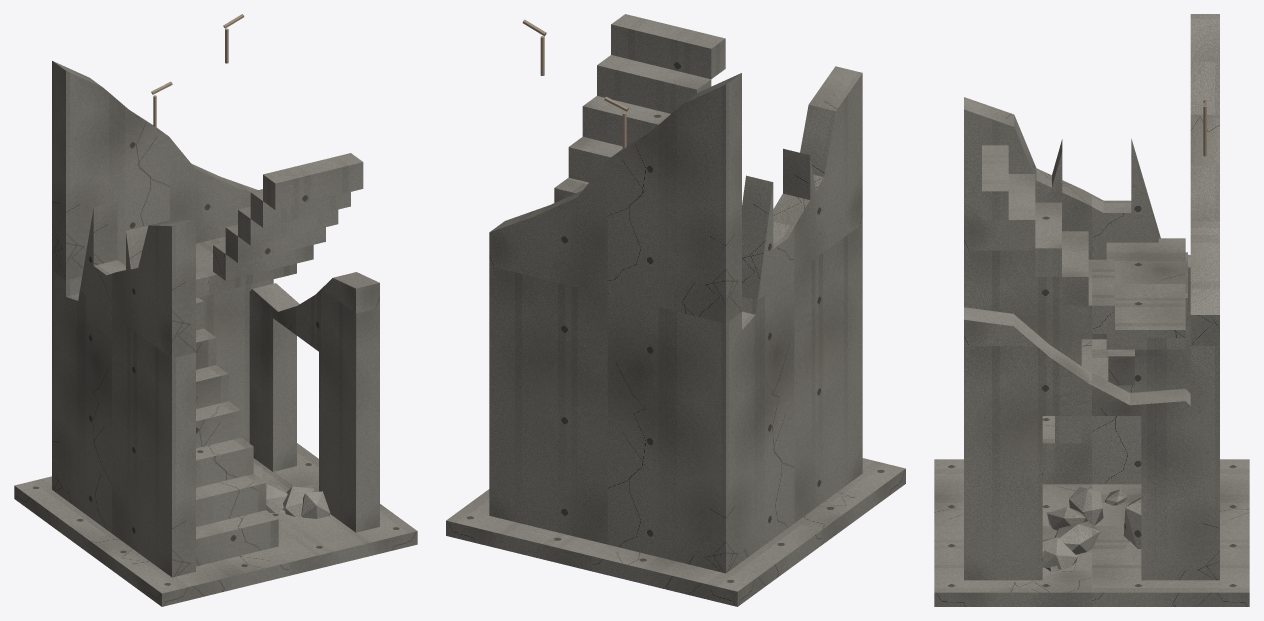
File: Tower_Stairwell.fbx
The picture shows the model from 3 angles, left to right: view 1: azimuth 30°, elevation 25°; view 2: azimuth 150°, elevation 25°; view 3: azimuth 270°, elevation 25°; orthographic projection. The views are drawn at different scales.
Visible parts, largest first — view 1: Tower_Stairwell; view 2: Tower_Stairwell; view 3: Tower_Stairwell.
Part boxes in pixels (x1,y1,x2,y2): Tower_Stairwell: (14, 14, 417, 606); Tower_Stairwell: (446, 14, 905, 606); Tower_Stairwell: (934, 14, 1249, 606).
Bounding box in the file's own units: 3.2 × 5.45 × 3.2.
2 materials, 1 textured.
